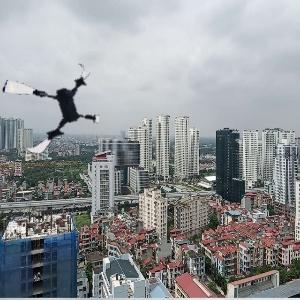drone: (1, 58, 102, 159)
